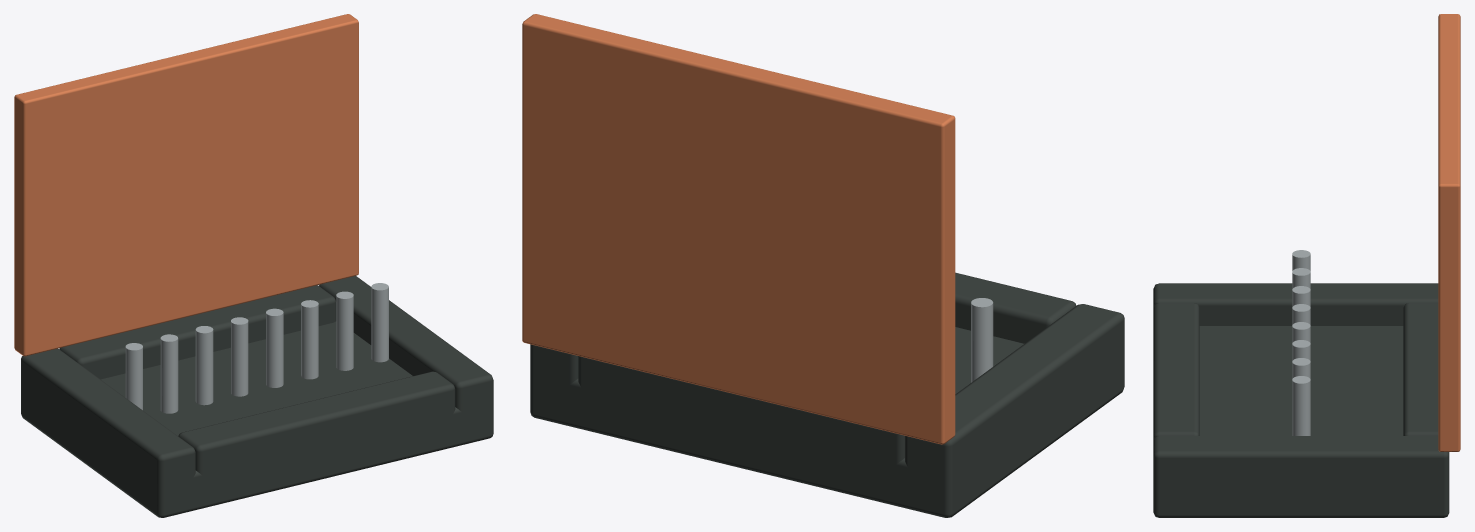
The model's file is salvage-and-repair-workshop-precision-bit-case-50038892__25476.glb.
3 views of the same model, side by side, from view 1: azimuth 30°, elevation 25°; view 2: azimuth 150°, elevation 25°; view 3: azimuth 270°, elevation 25° (orthographic). The views are drawn at different scales.
Visible parts, largest first — view 1: lid/signal, precision-bit-case; view 2: lid/signal, precision-bit-case; view 3: precision-bit-case, lid/signal.
Boxes of the visible parts, left/top/right/bottom form: lid/signal: left=14, top=14, right=358, bottom=356; precision-bit-case: left=21, top=276, right=493, bottom=517; lid/signal: left=522, top=14, right=955, bottom=444; precision-bit-case: left=530, top=272, right=1124, bottom=517; precision-bit-case: left=1153, top=250, right=1449, bottom=517; lid/signal: left=1438, top=14, right=1460, bottom=451.
Bounding box in the file's own units: 0.22 × 0.2 × 0.166.
